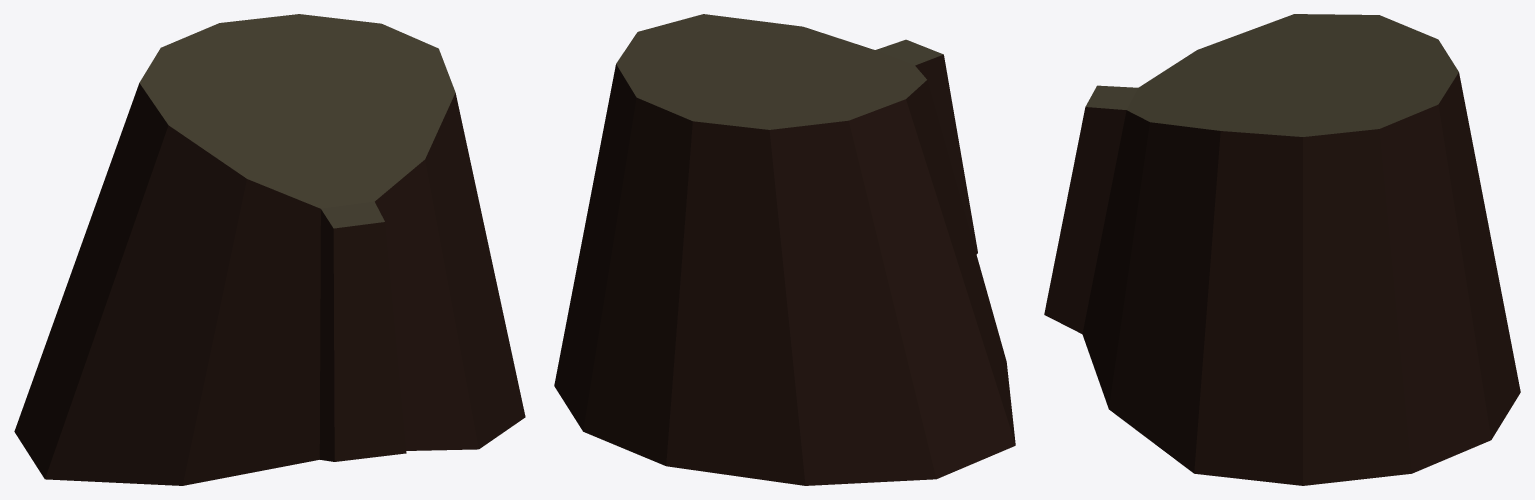
The model's file is SM_Tree19.fbx.
3 views of the same model, side by side, from view 1: azimuth 30°, elevation 25°; view 2: azimuth 150°, elevation 25°; view 3: azimuth 270°, elevation 25° (orthographic). The views are drawn at different scales.
Visible parts, largest first — view 1: Trunk; view 2: Trunk; view 3: Trunk.
Boxes of the visible parts, left/top/right/bottom form: Trunk: left=14, top=14, right=525, bottom=485; Trunk: left=554, top=14, right=1015, bottom=485; Trunk: left=1044, top=14, right=1520, bottom=485.
Size of the model in its own units: 40.78 by 28.98 by 38.83.
